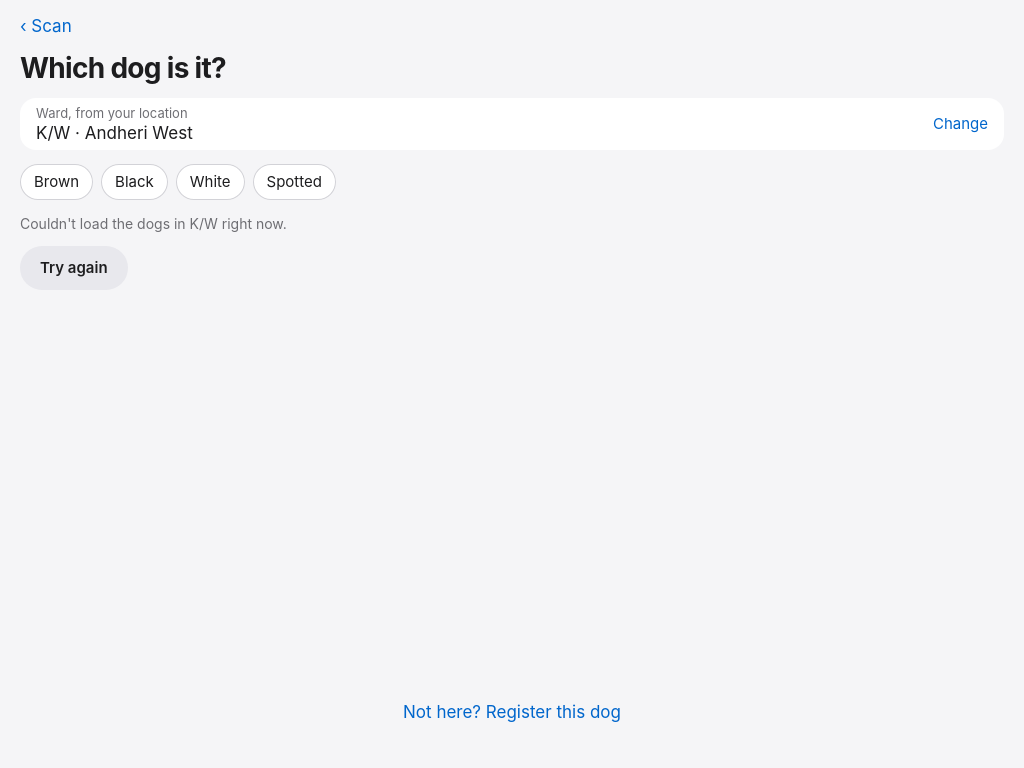
Test: F3 Which dog is it? › says so when the ward's dogs cannot load, with Try again
Step 1. Click the button "Try again" → (74, 268), box [20, 246, 128, 290]
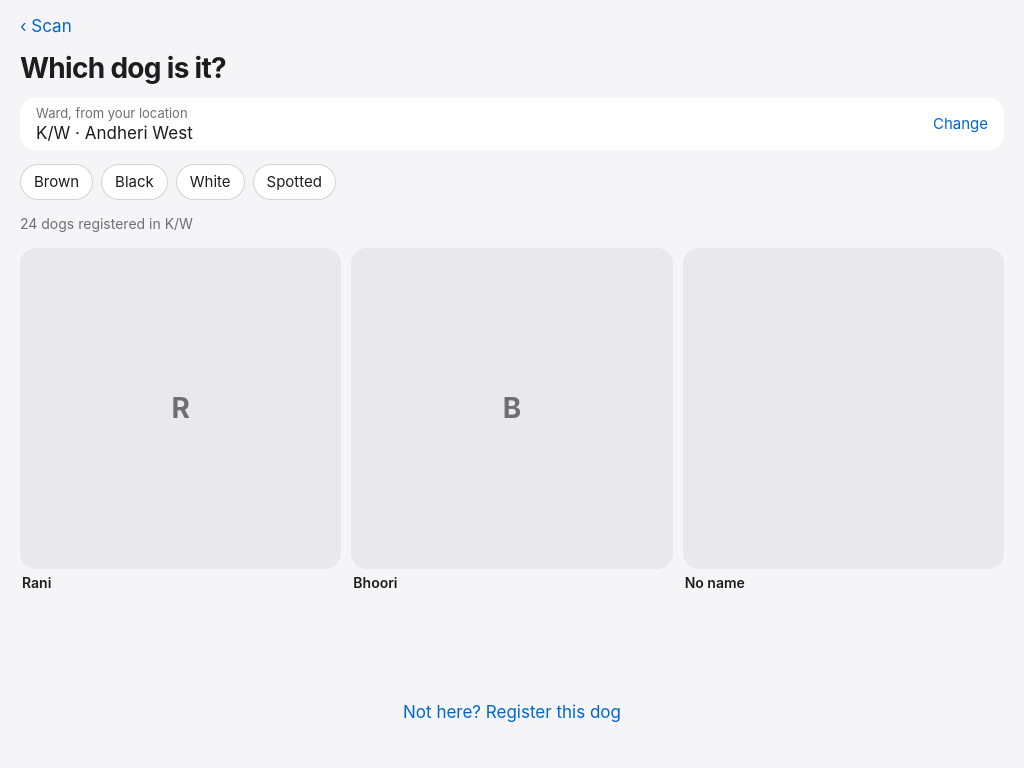
Now the text "24 dogs registered in K/W" is shown, box [20, 215, 193, 232]
